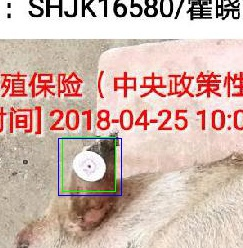text: (62, 137, 115, 191)
